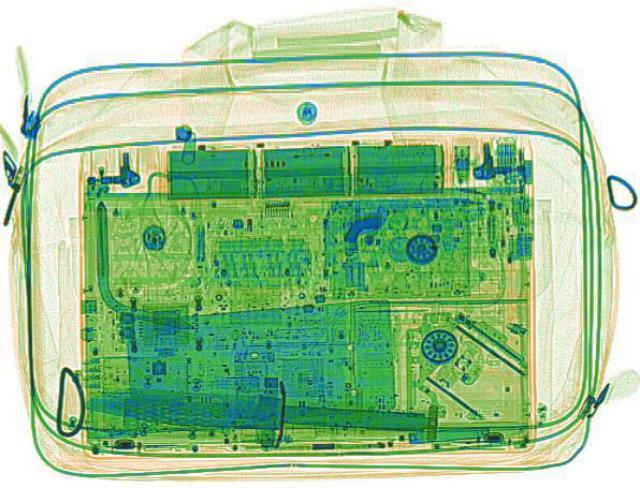Knife: (79, 382, 427, 436)
